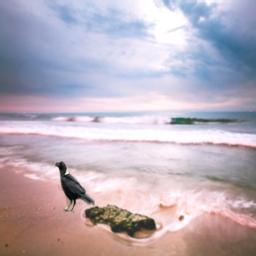Crow: (54, 159, 95, 213)
